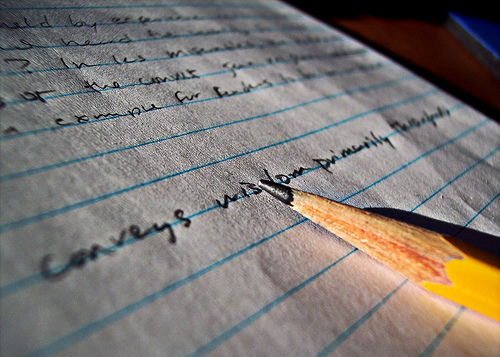pen_tip: (245, 168, 475, 302)
